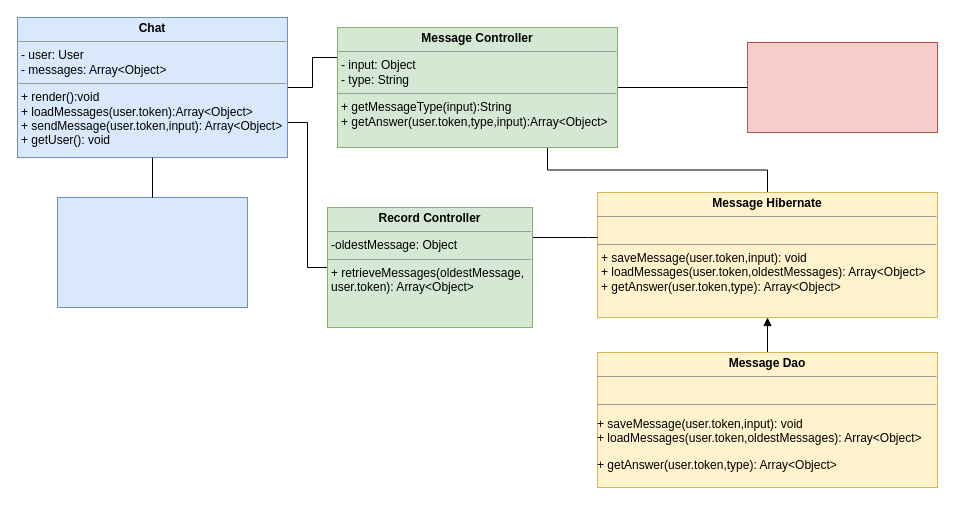
Some shapes in this 955 by 505 pixel diagram are drawn without their labels. The box of each missing label's shape, as (x1, y1, x2, y2) in pixels:
User - token: String - userData: Object + getData(): void: (56, 196, 248, 308)
Watson Service + matchType(input): String: (746, 42, 938, 132)
